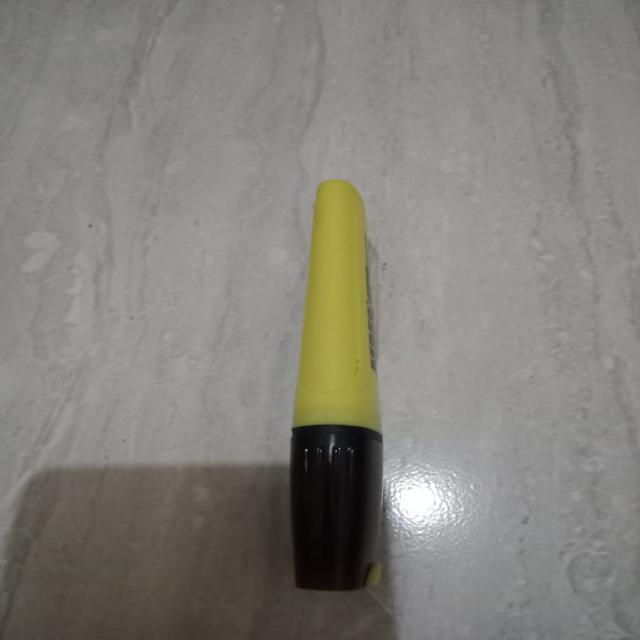highlighter: (258, 158, 411, 610)
